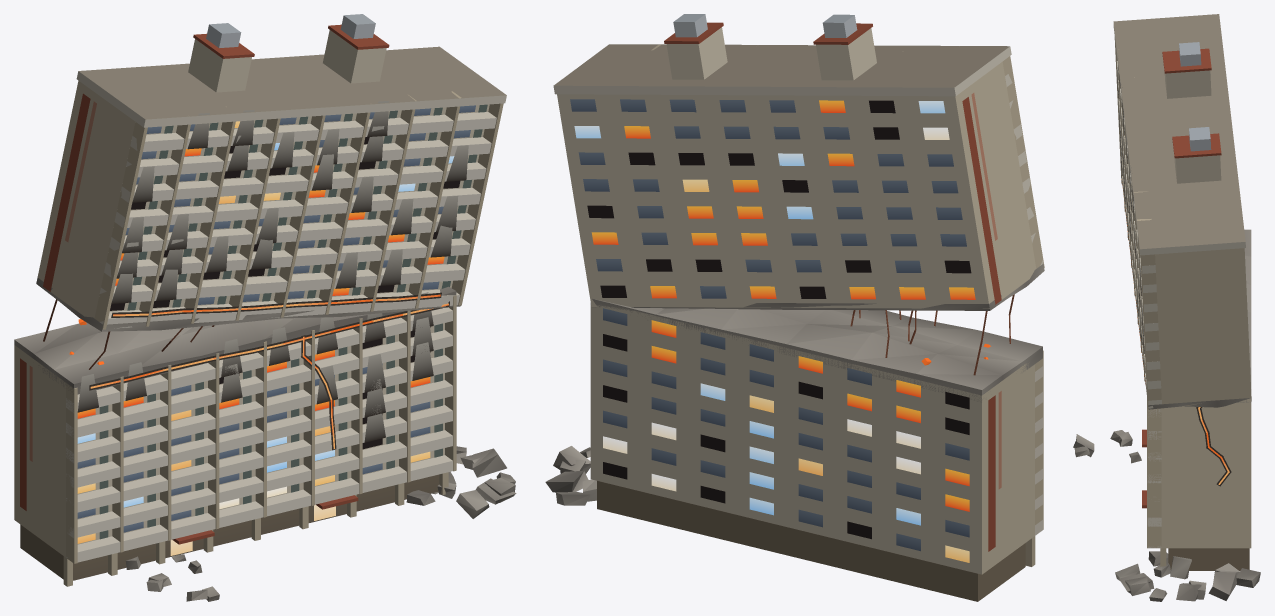
File: bld_apt_E_collapsed.meshopt.glb
The picture shows the model from 3 angles, left to right: view 1: azimuth 30°, elevation 25°; view 2: azimuth 150°, elevation 25°; view 3: azimuth 270°, elevation 25°; orthographic projection. The views are drawn at different scales.
Parts seen in each view (by area): view 1: bld_apt_E_collapsed; view 2: bld_apt_E_collapsed; view 3: bld_apt_E_collapsed.
Part boxes in pixels (left/top/right/bottom): bld_apt_E_collapsed: left=14, top=14, right=516, bottom=601; bld_apt_E_collapsed: left=545, top=14, right=1044, bottom=601; bld_apt_E_collapsed: left=1073, top=14, right=1260, bottom=601.
Bounding box in the file's own units: 52.96 × 57.64 × 21.97.
